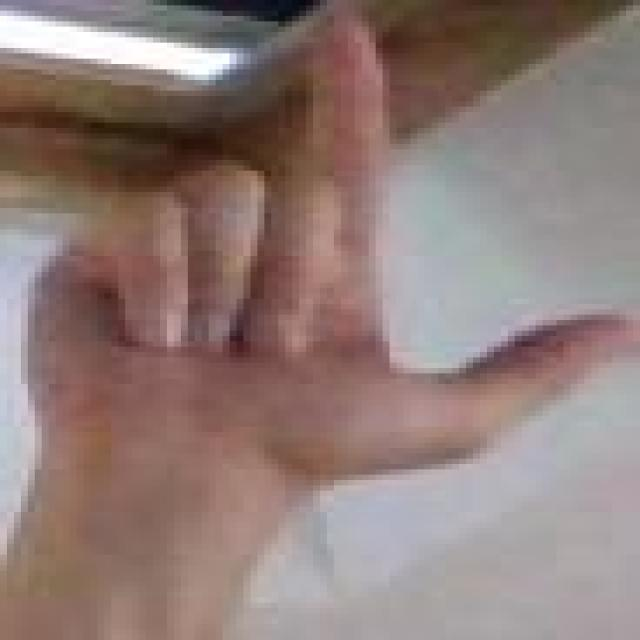L: (23, 9, 640, 492)
